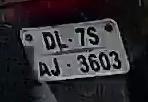0: (99, 52, 111, 74)
3: (110, 51, 123, 71), (77, 55, 89, 73)
6: (87, 52, 100, 73)
7: (74, 25, 86, 48)
A: (37, 61, 54, 78)
D: (40, 29, 56, 53)
J: (51, 57, 62, 79)
L: (53, 31, 69, 51)
S: (85, 25, 101, 48)
